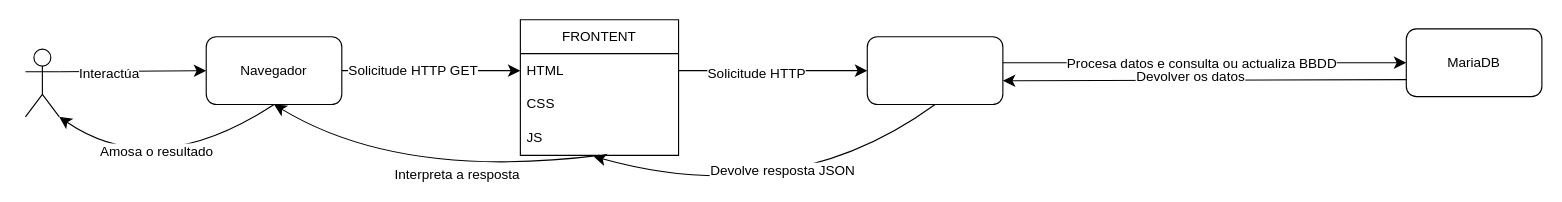
This 1562x202 diagram has some shape labels left out. Here are the shapes that lost their labels. From the top down, the centre of each, then its label:
(41,82): Usuario
(934,70): API PHP
